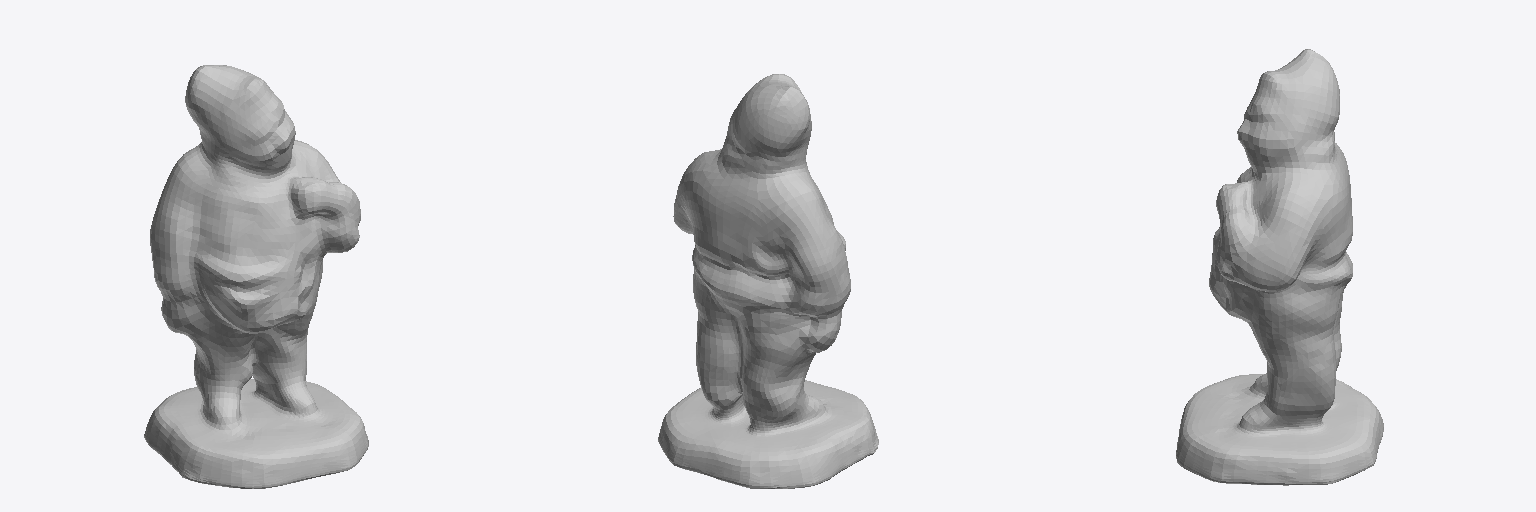
Rendered from gnomeFigure.obj.
3 views of the same model, side by side, from view 1: azimuth 30°, elevation 25°; view 2: azimuth 150°, elevation 25°; view 3: azimuth 270°, elevation 25° (orthographic).
Parts seen in each view (by area): view 1: gnome_low; view 2: gnome_low; view 3: gnome_low.
Part boxes in pixels (left/top/right/bottom): gnome_low: left=144, top=65, right=368, bottom=488; gnome_low: left=658, top=74, right=878, bottom=488; gnome_low: left=1176, top=49, right=1383, bottom=485.
Bounding box in the file's own units: 2.79 × 5.54 × 2.78.